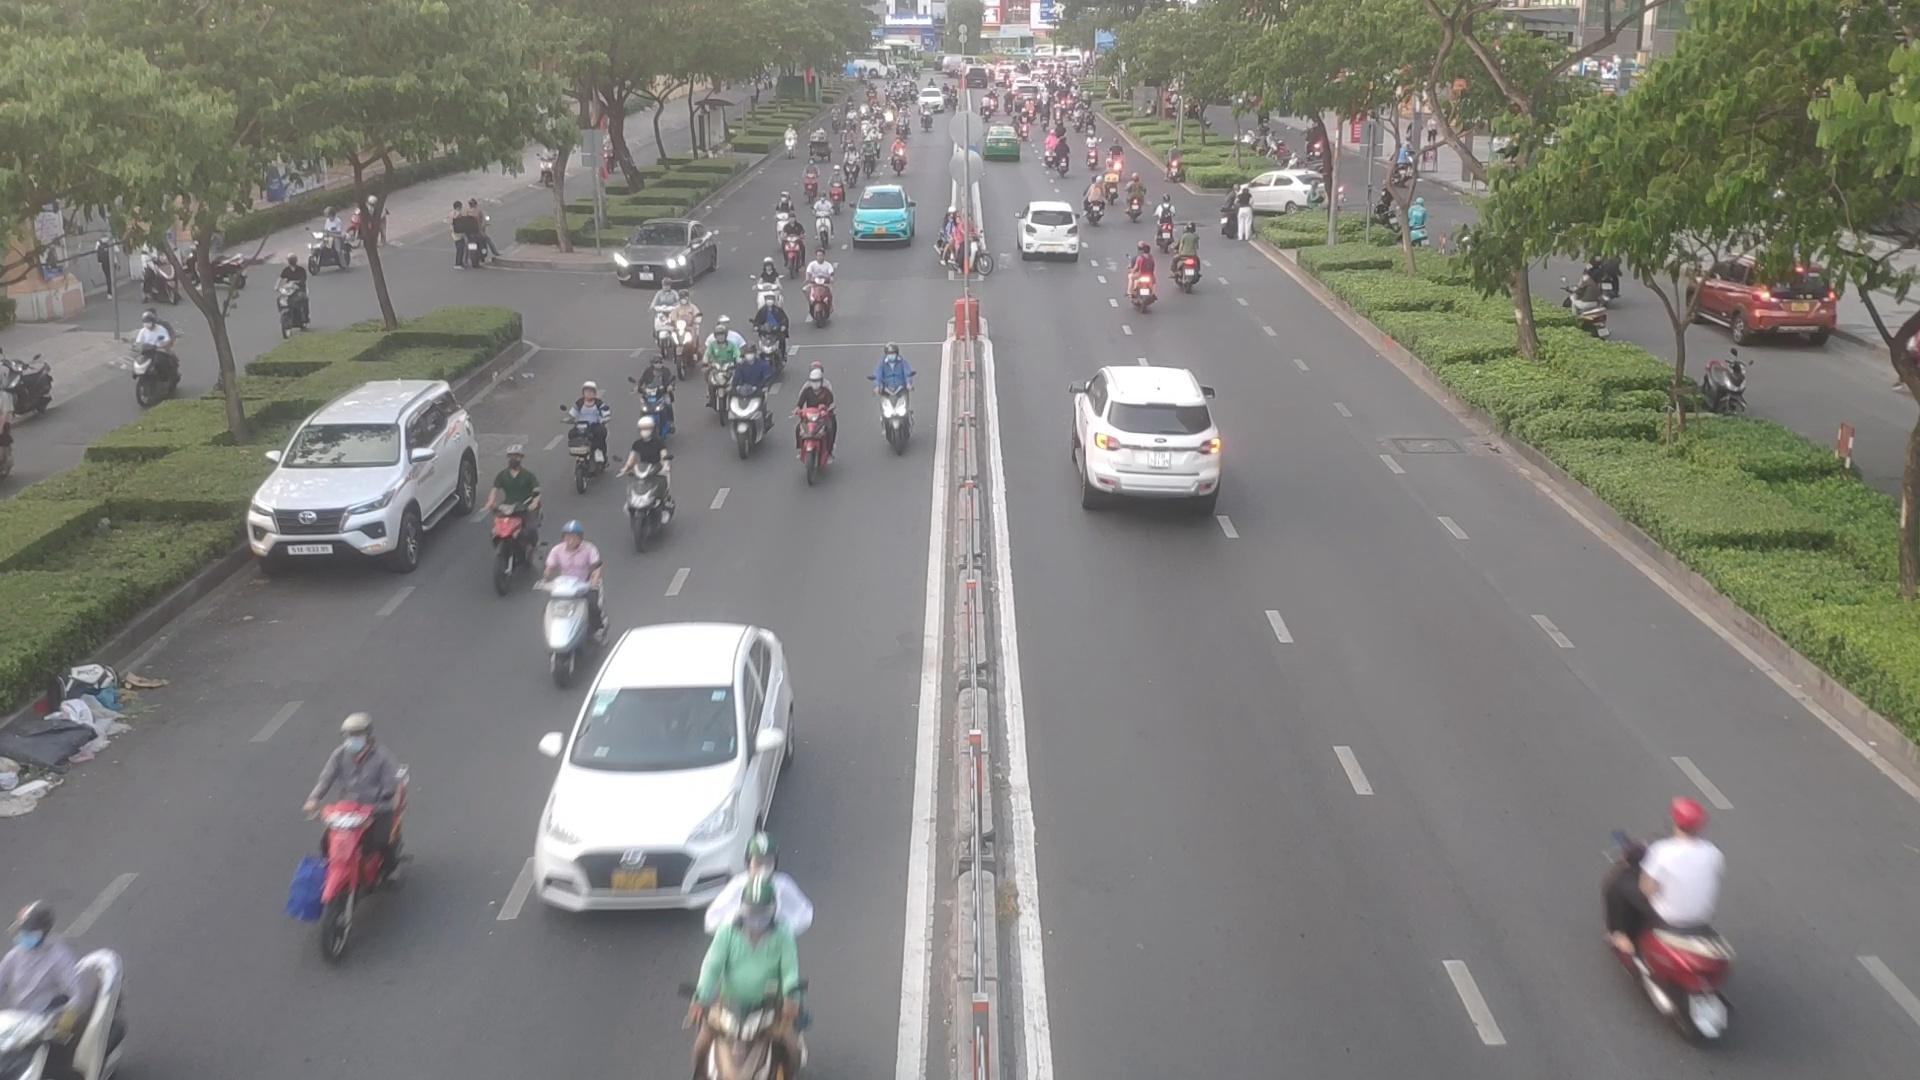car: (518, 622, 799, 916), (247, 382, 489, 575), (1079, 371, 1222, 502), (615, 222, 725, 291), (844, 185, 911, 248), (1017, 200, 1085, 256), (1236, 174, 1317, 216)
motorbike: (1571, 781, 1745, 1040), (233, 708, 411, 948), (659, 876, 787, 1080), (8, 886, 127, 1080), (535, 526, 605, 673), (471, 450, 535, 603), (546, 372, 603, 483), (617, 410, 662, 538), (882, 351, 932, 462), (783, 368, 828, 477), (723, 347, 767, 454), (694, 301, 740, 404), (673, 285, 717, 371), (636, 344, 674, 423), (750, 297, 793, 367), (647, 266, 684, 339), (1129, 245, 1168, 313), (945, 218, 994, 272), (808, 245, 833, 334), (754, 258, 789, 319), (1176, 222, 1204, 291), (764, 183, 795, 232), (785, 216, 808, 276), (1155, 196, 1178, 252), (798, 156, 822, 200), (825, 169, 844, 224), (818, 195, 837, 247), (1121, 179, 1141, 228), (1081, 191, 1105, 228)
